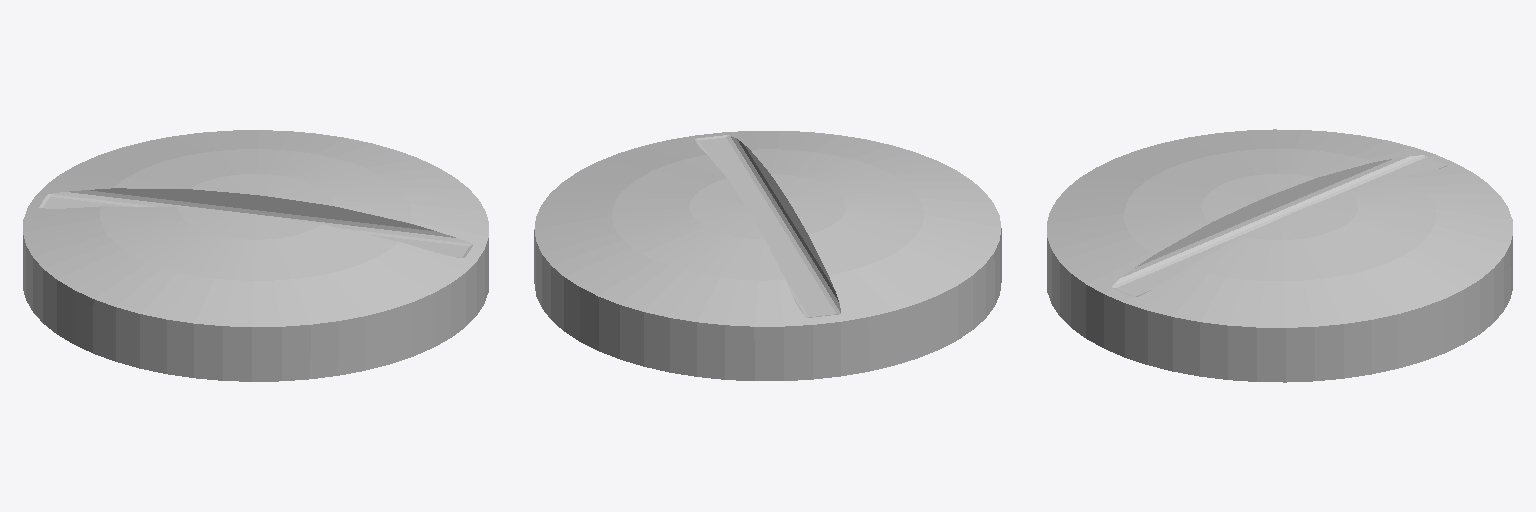
Rendered from Pill.obj.
The picture shows the model from 3 angles: view 1: azimuth 30°, elevation 25°; view 2: azimuth 150°, elevation 25°; view 3: azimuth 270°, elevation 25°; orthographic projection.
Visible parts, largest first — view 1: pill_1; view 2: pill_1; view 3: pill_1.
Boxes of the visible parts, <box> form: pill_1: <box>23,130,488,381</box>; pill_1: <box>534,131,1001,380</box>; pill_1: <box>1047,129,1512,382</box>.
Size of the model in its own units: 73.4 by 17.75 by 73.36.